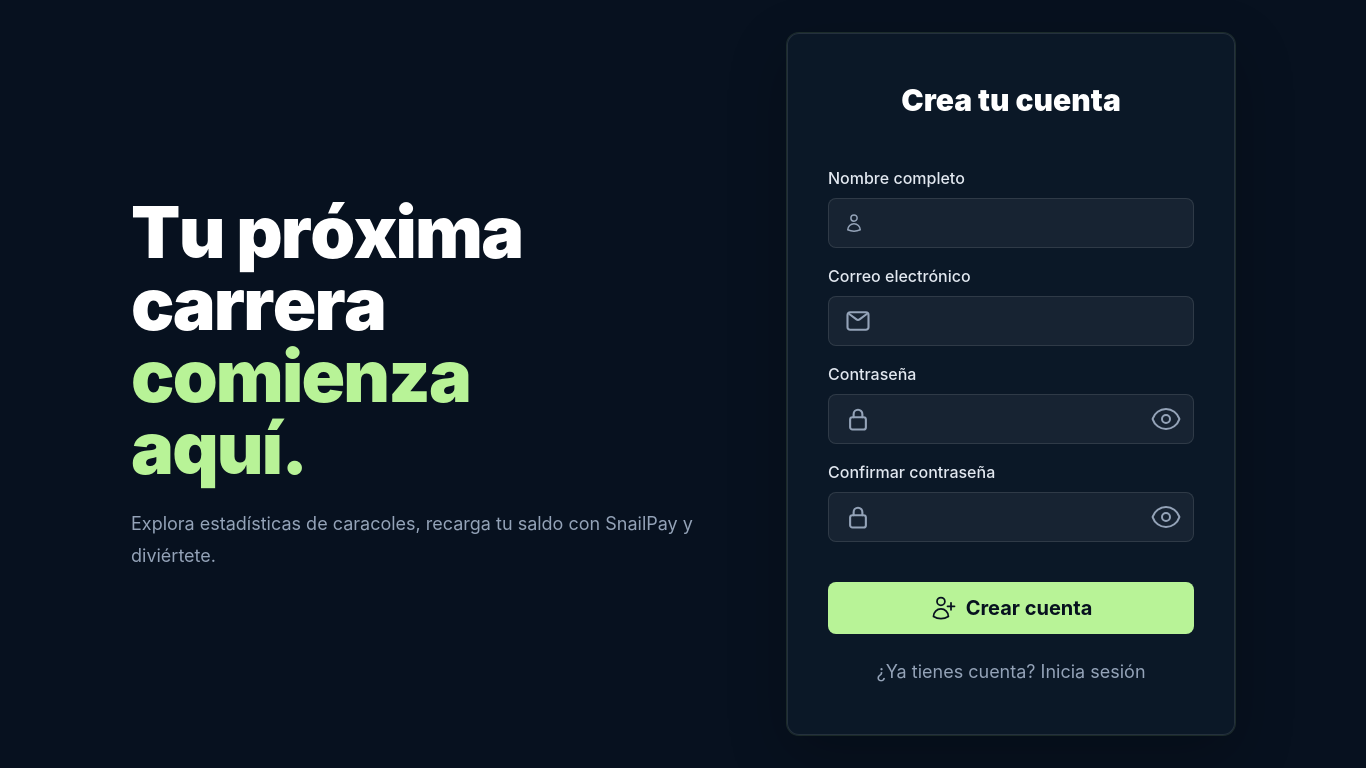
Test: RegisterPage › field normalization › uppercases the full name and strips digits and symbols
Step 1. Type "ada lovelace123!" into the field labelled "Nombre completo" → {"x": 1011, "y": 223}, box x1=828 y1=198 x2=1194 y2=248
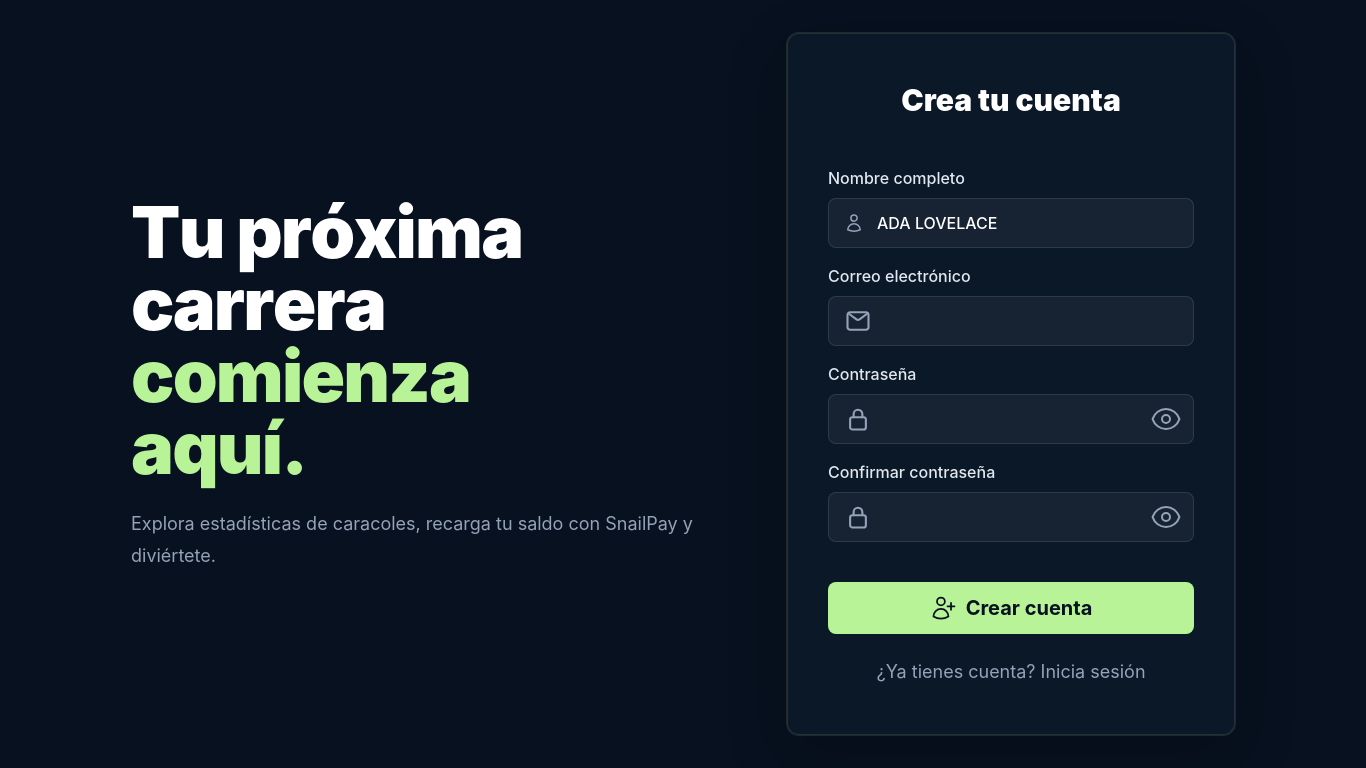
Expected: the field labelled "Nombre completo" holds "ADA LOVELACE", x1=828 y1=198 x2=1194 y2=248
